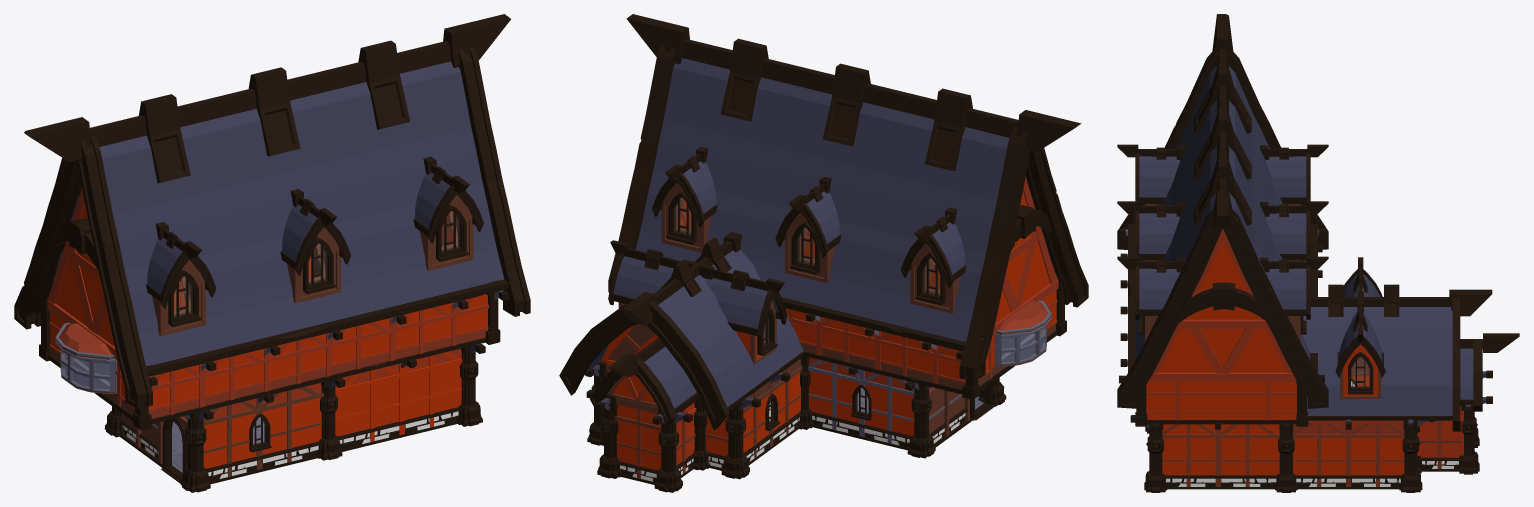
The model's file is SFFA_Building.fbx.
3 renders of one model, left to right at view 1: azimuth 30°, elevation 25°; view 2: azimuth 150°, elevation 25°; view 3: azimuth 270°, elevation 25°, orthographic. The views are drawn at different scales.
Parts seen in each view (by area): view 1: SFFA_Building; view 2: SFFA_Building; view 3: SFFA_Building.
Boxes of the visible parts, <box> form: SFFA_Building: <box>14,14,530,492</box>; SFFA_Building: <box>559,14,1088,492</box>; SFFA_Building: <box>1117,14,1519,492</box>.
Bounding box in the file's own units: 2234 × 1587 × 1881.
